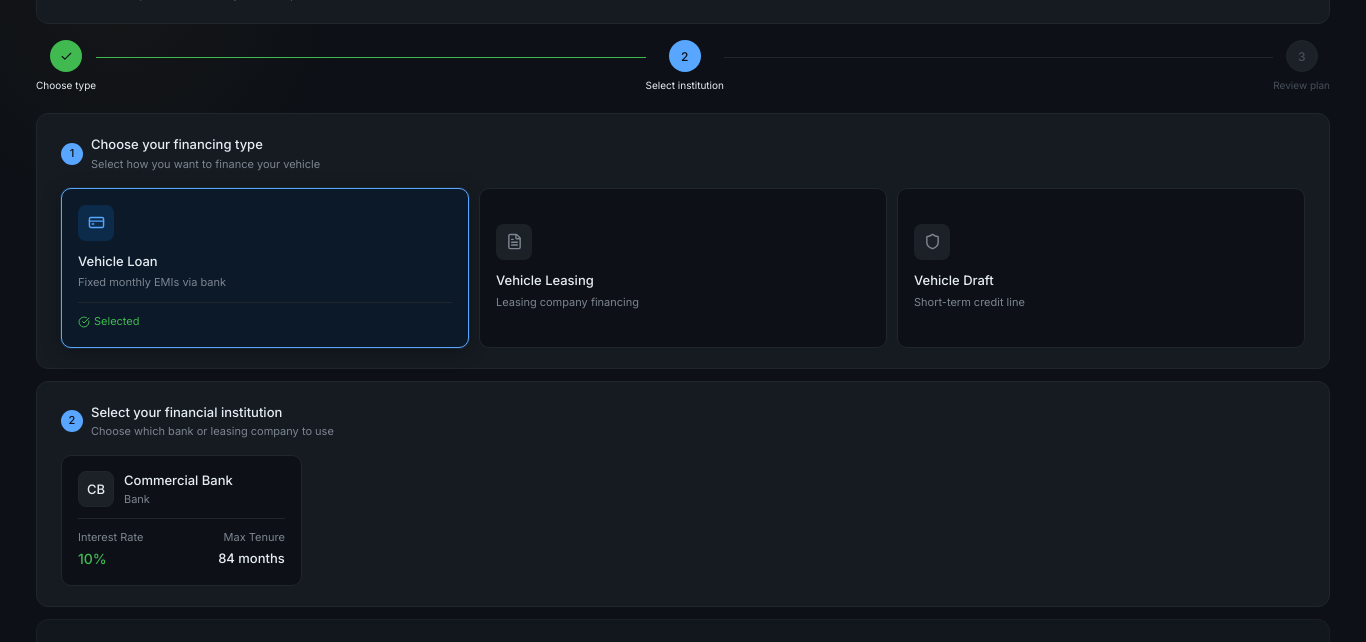
VehicleFinancingOptions with Mocha/Chai › shows LTV validation error when the selected plan exceeds bank limits
Click the button "Commercial Bank".
click(181, 520)  # box [61,455,302,586]
(page scrolled)
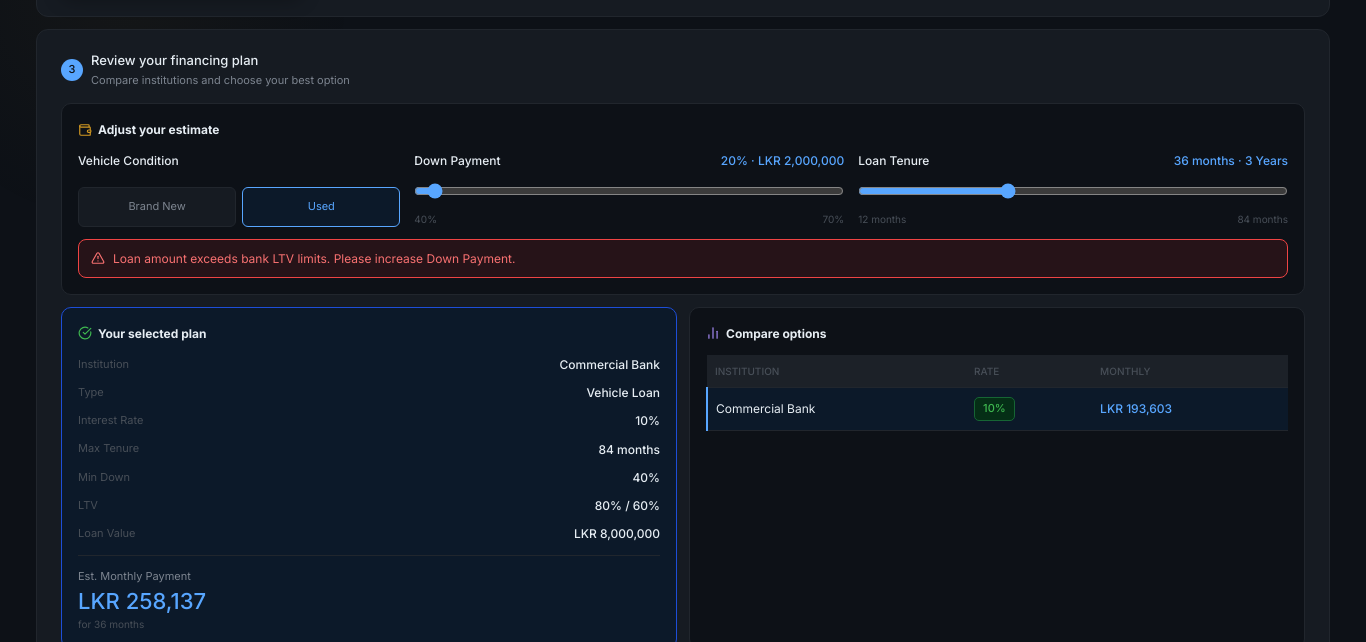
expect the text "Loan amount exceeds bank LTV limits" is shown: met, box [113,251,515,266]
